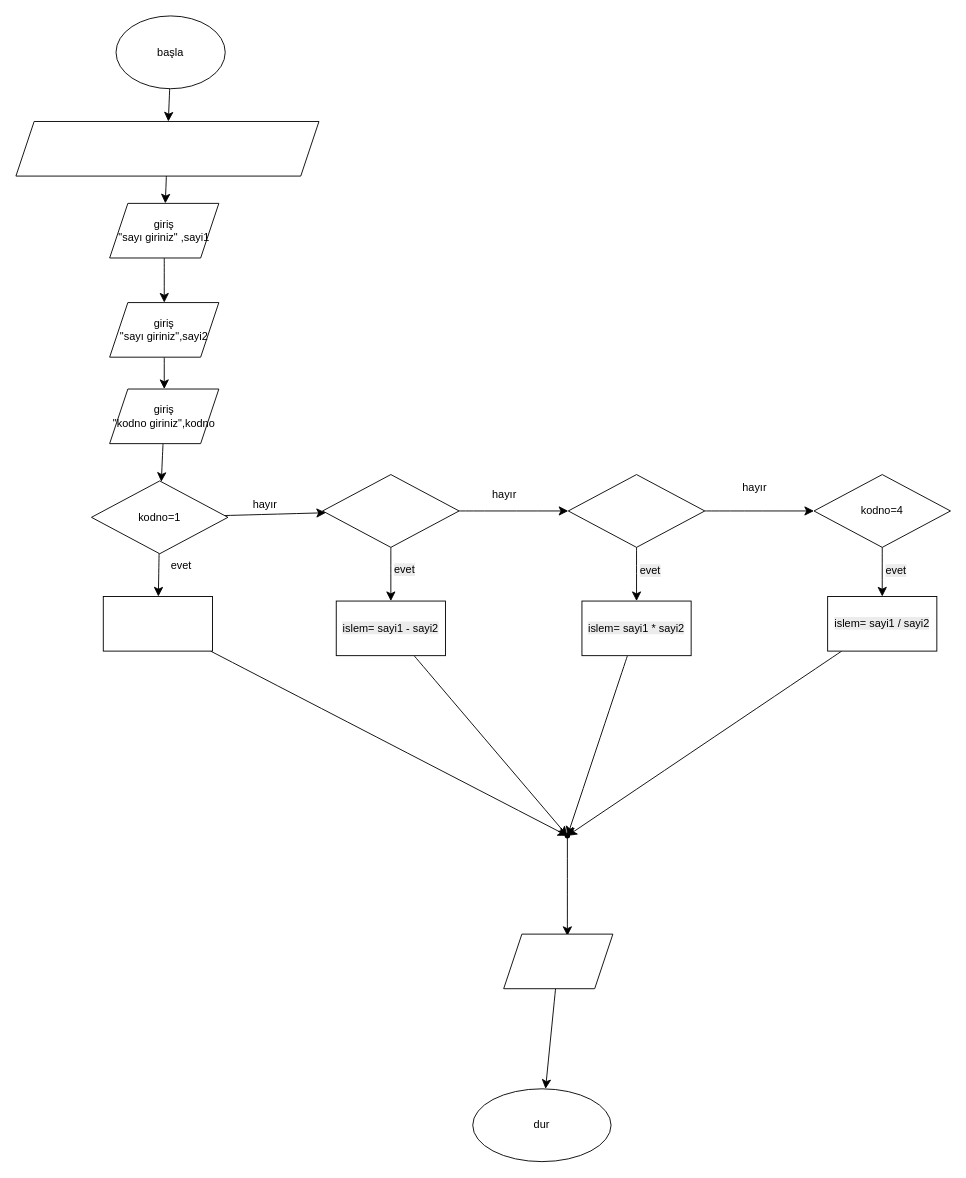
Some shapes in this 966 by 1178 pixel diagram are drawn without their labels. The box of each missing label's shape, as (x1, y1, x2, y2) in pixels:
islem= sayi1 + sayi2: (102, 596, 212, 651)
kodno=2: (322, 474, 459, 547)
kodno=3: (567, 474, 705, 547)
çıkış "sonuç değeri", islem: (503, 933, 613, 989)
çıkış "topla=1, çıkar=2, çarp=3, böl=4": (15, 121, 319, 176)
